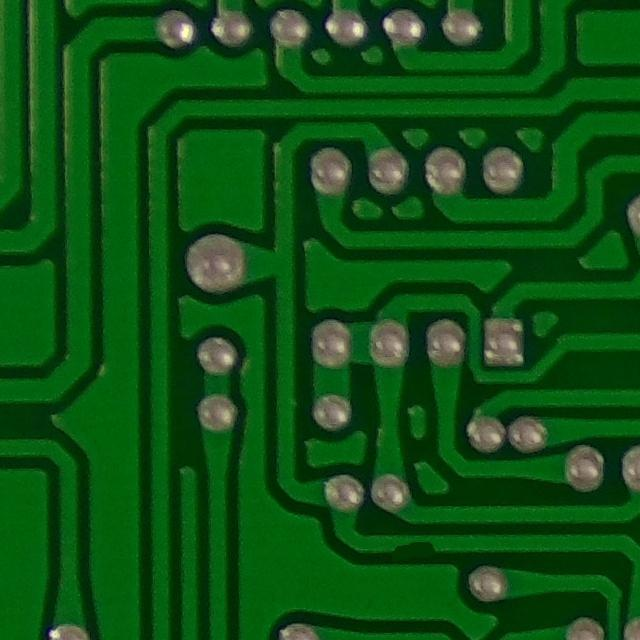mouse_bite: (382, 528, 445, 562)
